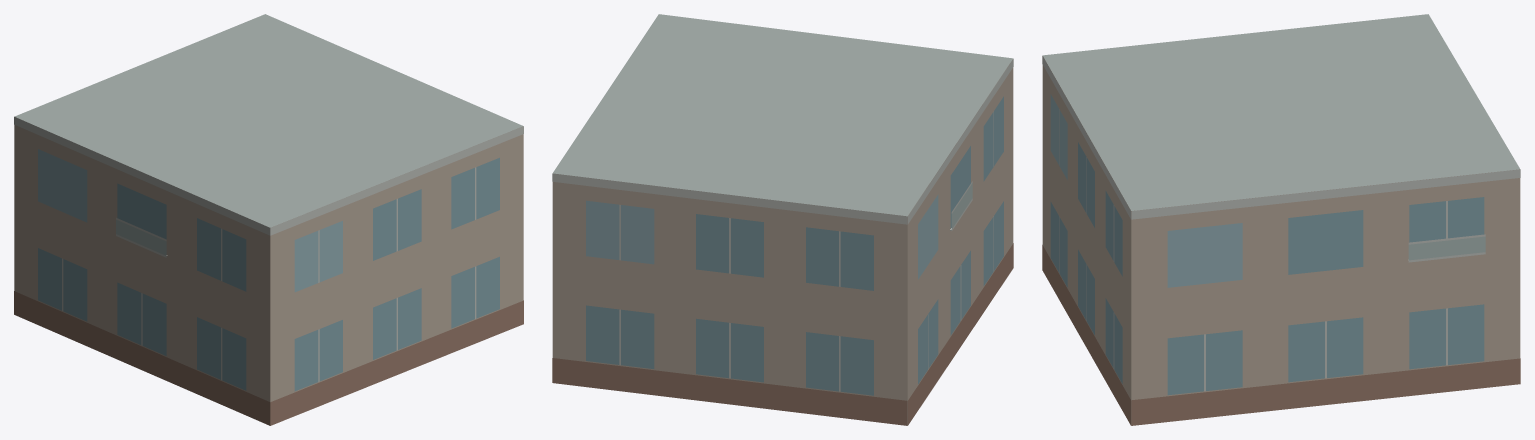
The model's file is survey-upis-32925319.glb.
The picture shows the model from 3 angles, left to right: view 1: azimuth 30°, elevation 25°; view 2: azimuth 150°, elevation 25°; view 3: azimuth 270°, elevation 25°; orthographic projection. The views are drawn at different scales.
Parts seen in each view (by area): view 1: survey-upis-32925319.tmp; view 2: survey-upis-32925319.tmp; view 3: survey-upis-32925319.tmp.
Boxes of the visible parts, x1,y1,x2,y2 form: survey-upis-32925319.tmp: (14, 14, 523, 425); survey-upis-32925319.tmp: (552, 14, 1013, 425); survey-upis-32925319.tmp: (1042, 14, 1520, 425).
Bounding box in the file's own units: 12.01 × 6.1 × 12.31.
